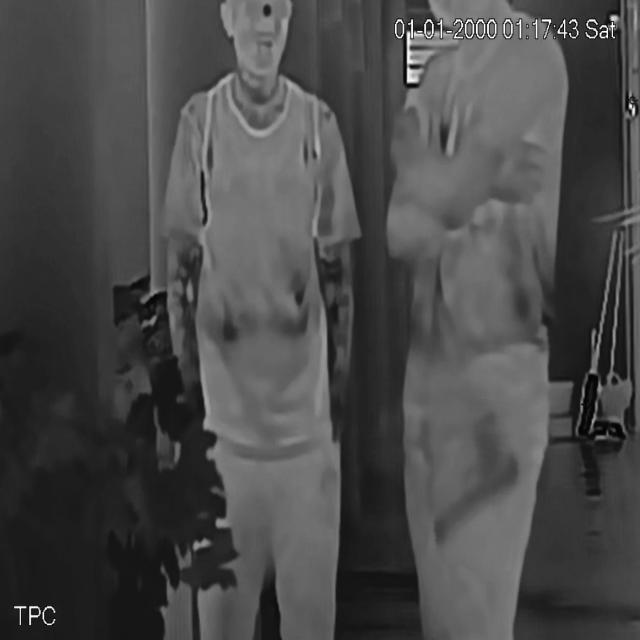Weapon: (431, 397, 525, 569)
